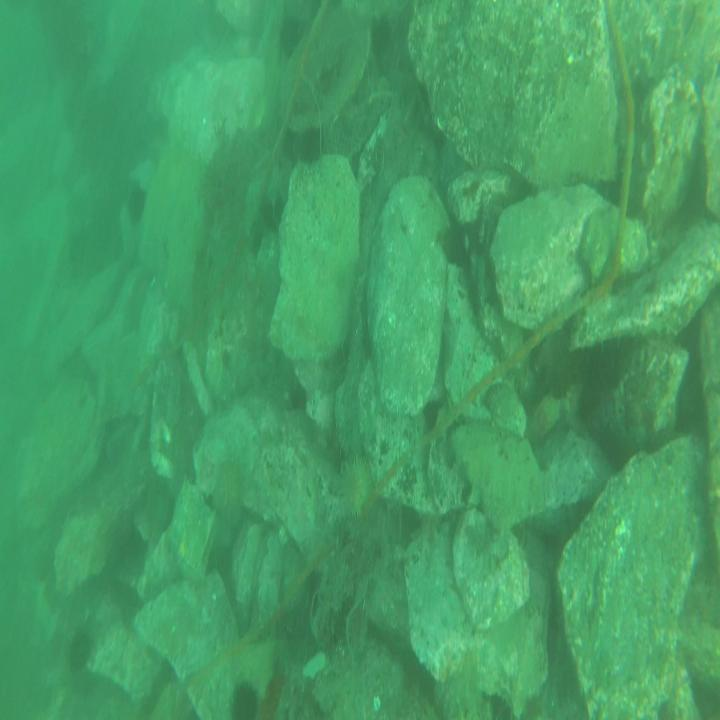echinus: (336, 452, 375, 518), (209, 458, 248, 522), (62, 628, 100, 674), (122, 182, 150, 233), (297, 123, 323, 168), (231, 675, 257, 720)
